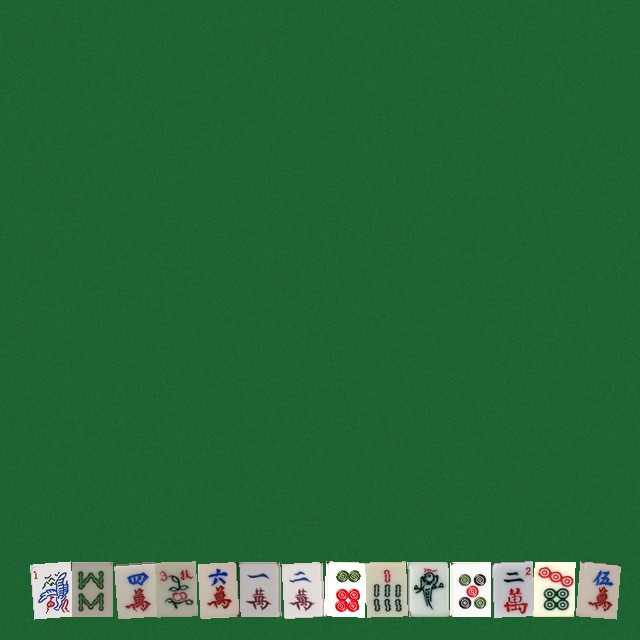tile: (29, 561, 70, 616), (71, 561, 112, 616), (113, 561, 154, 616), (155, 561, 196, 616), (197, 561, 238, 616), (239, 561, 280, 616), (281, 561, 322, 616), (323, 561, 364, 616), (365, 561, 406, 616), (407, 561, 448, 616), (449, 561, 490, 616), (491, 561, 532, 616), (533, 561, 574, 616), (575, 561, 616, 616)
